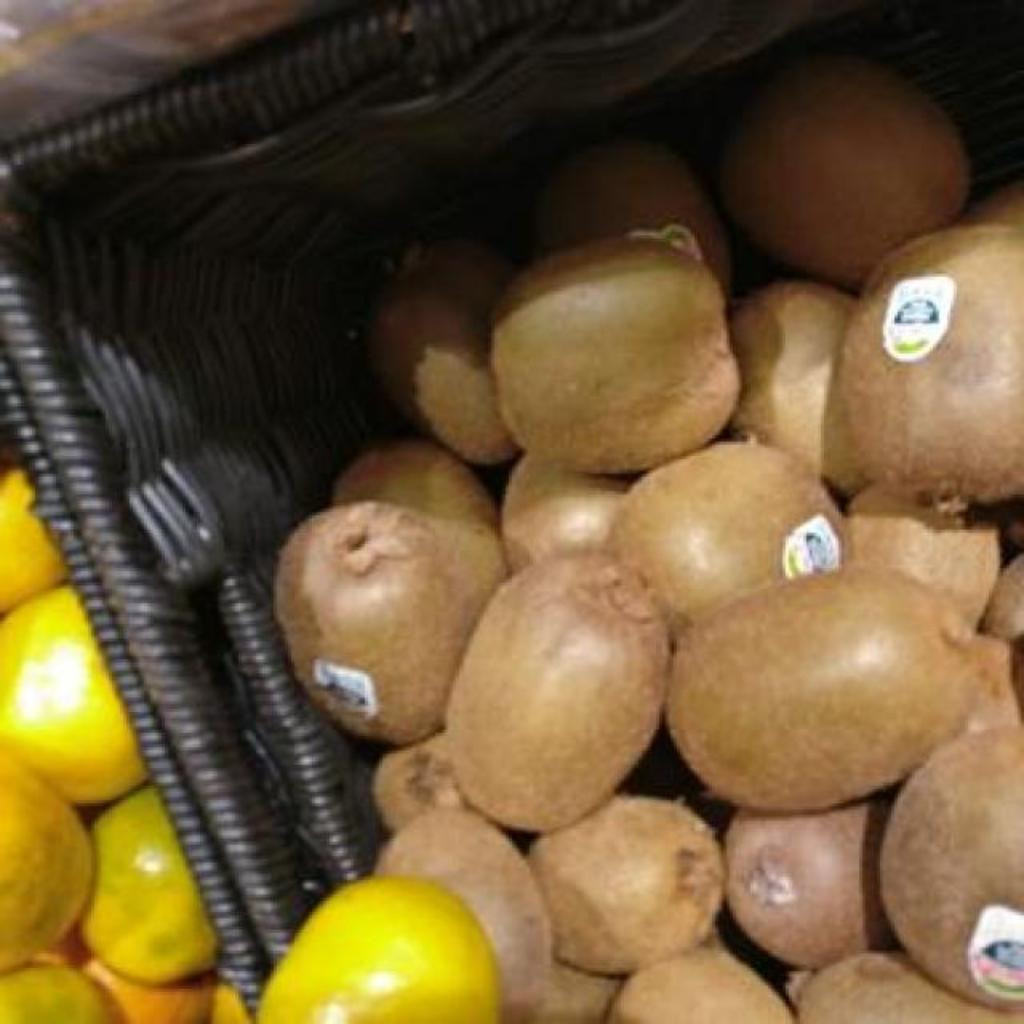kiwi: (670, 566, 978, 811), (492, 226, 740, 473), (446, 564, 668, 831), (722, 56, 970, 285), (826, 224, 1024, 501), (276, 502, 470, 743), (612, 442, 844, 627), (880, 726, 1024, 1007), (530, 796, 722, 974), (368, 242, 514, 463), (376, 808, 548, 995), (732, 282, 854, 473), (728, 804, 868, 967), (798, 952, 1024, 1024), (848, 519, 1000, 625), (608, 946, 794, 1023), (502, 456, 628, 569)
